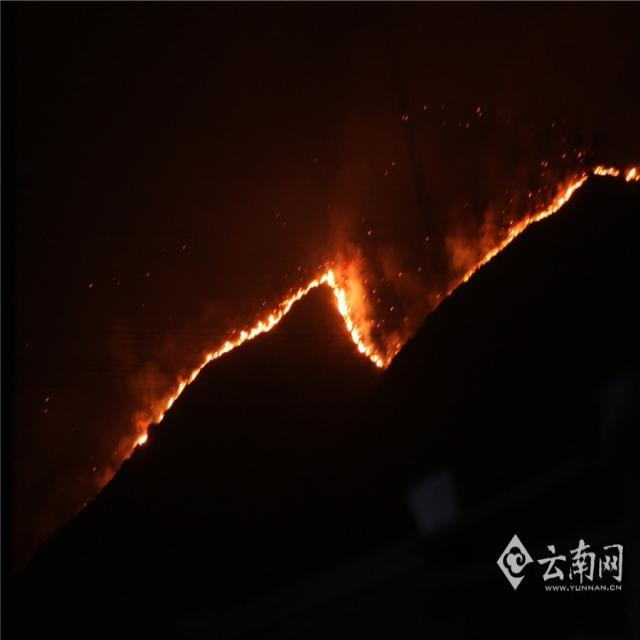Fire: (132, 268, 384, 452), (460, 162, 640, 285)
Smoke: (327, 151, 558, 349), (91, 298, 246, 490)
